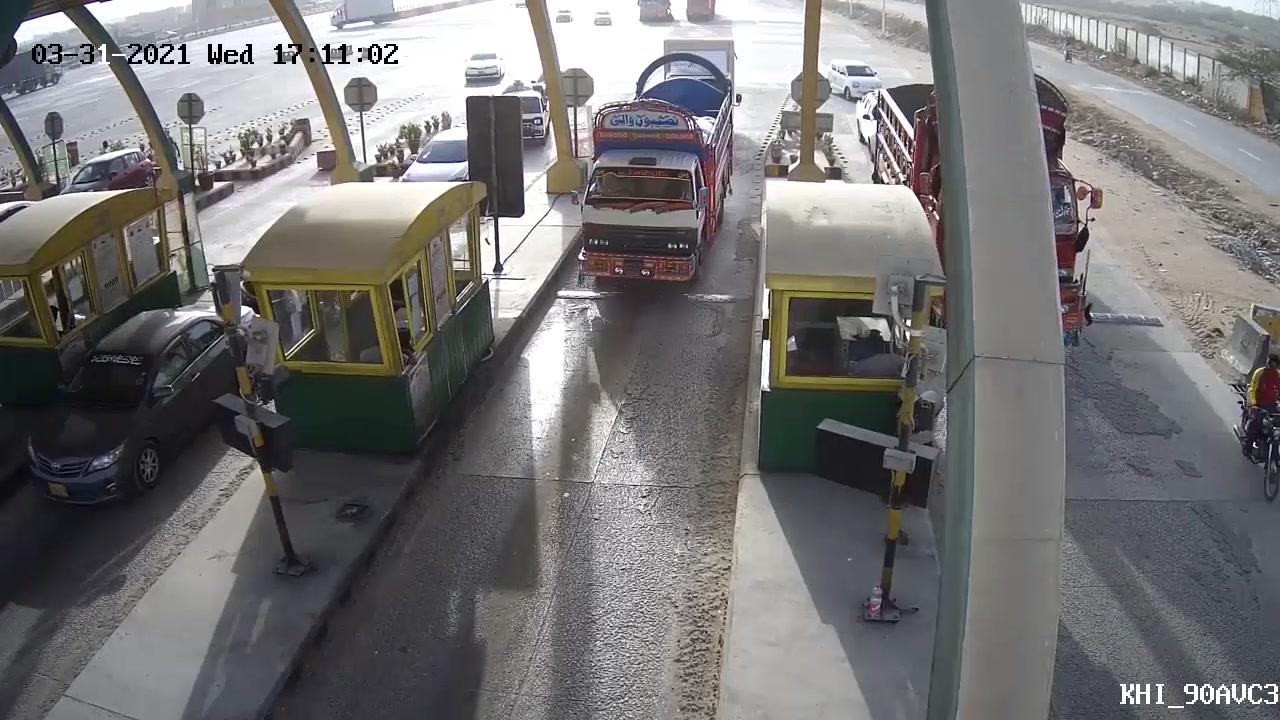F3: (559, 50, 744, 301)
